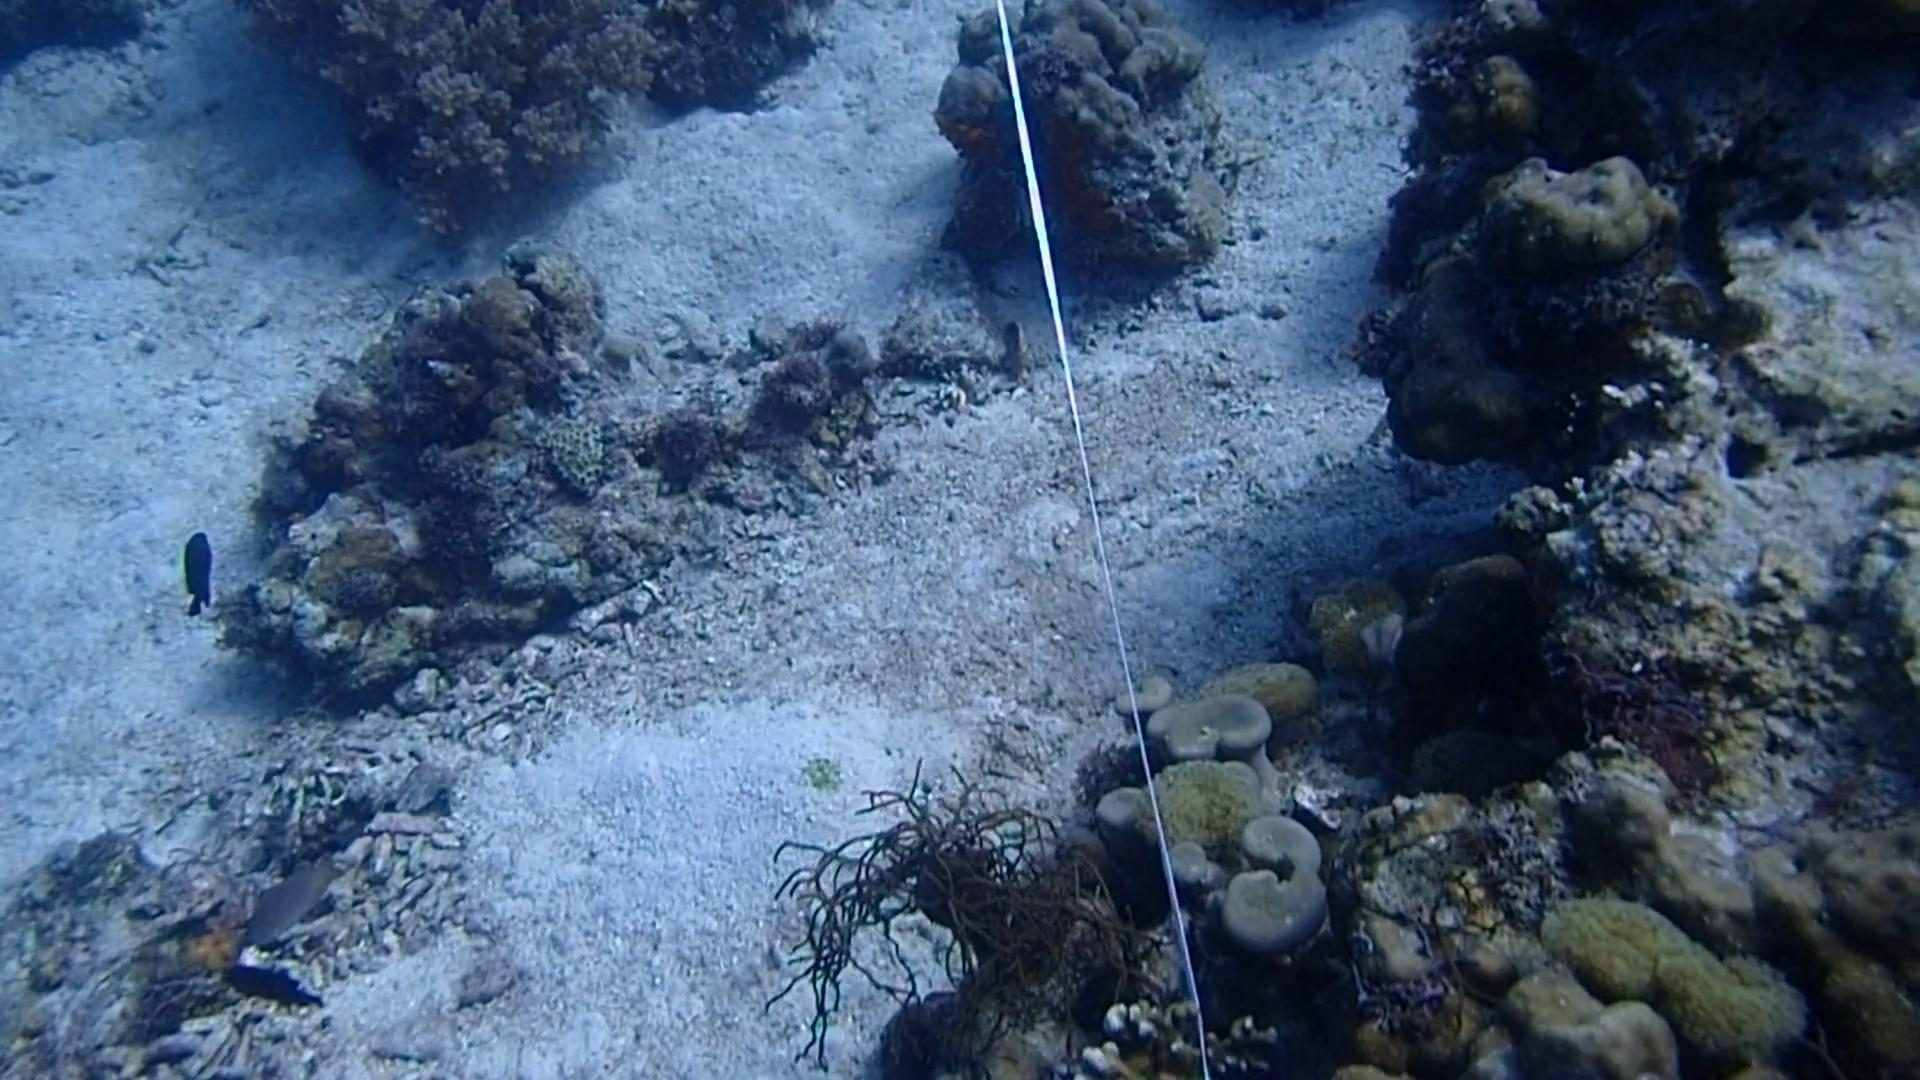Dark Fish: (212, 960, 323, 1010), (169, 531, 227, 622)
Light Fish: (232, 855, 353, 955)
